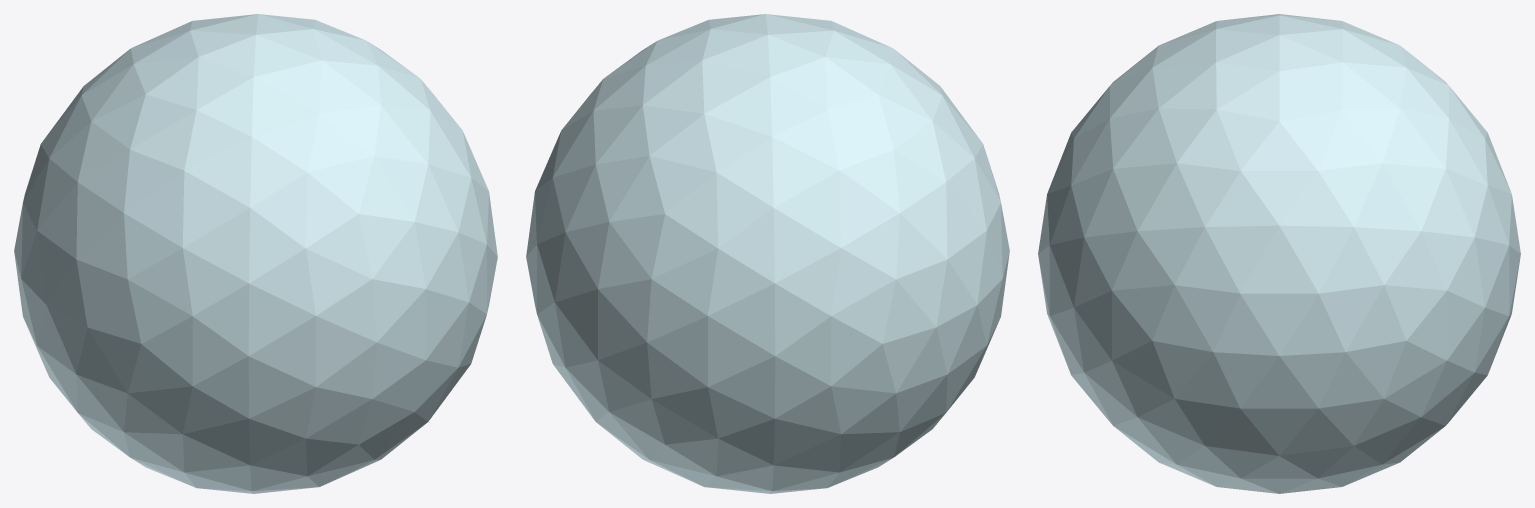
Rendered from marble.glb.
The picture shows the model from 3 angles, left to right: view 1: azimuth 30°, elevation 25°; view 2: azimuth 150°, elevation 25°; view 3: azimuth 270°, elevation 25°; orthographic projection.
Bounding box in the file's own units: 0.016 × 0.016 × 0.016.
